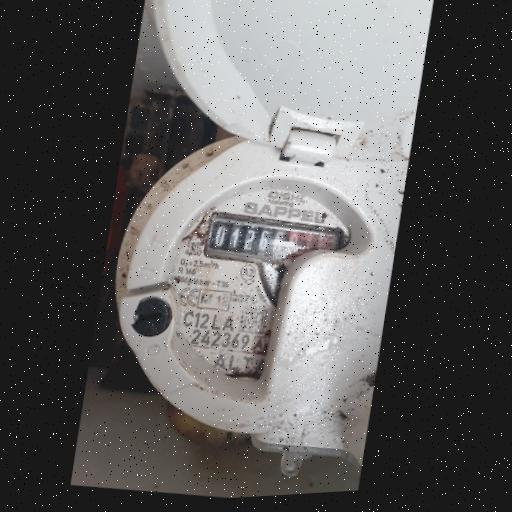0: (209, 219, 231, 251), (283, 229, 304, 261)
1: (225, 221, 247, 253)
2: (241, 223, 260, 256)
5: (299, 232, 316, 260)
6: (253, 225, 275, 258), (269, 226, 290, 260)
9: (315, 232, 333, 254)
border_water_meter_number: (205, 209, 344, 276)
